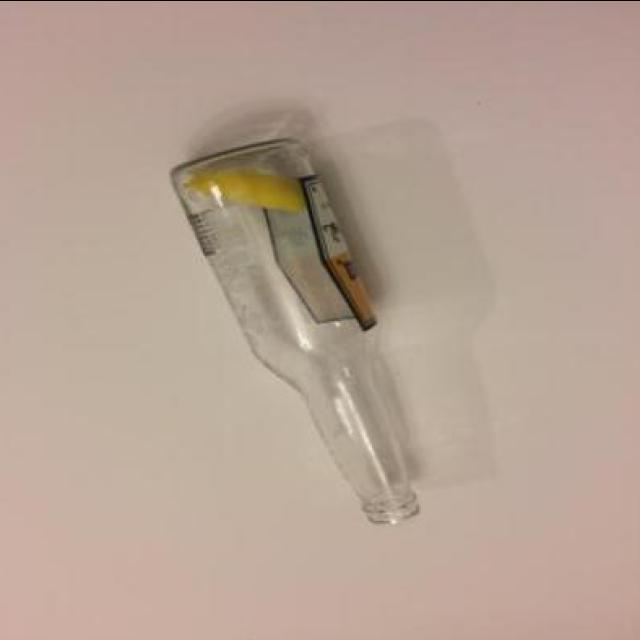kaca: (170, 135, 420, 524)
